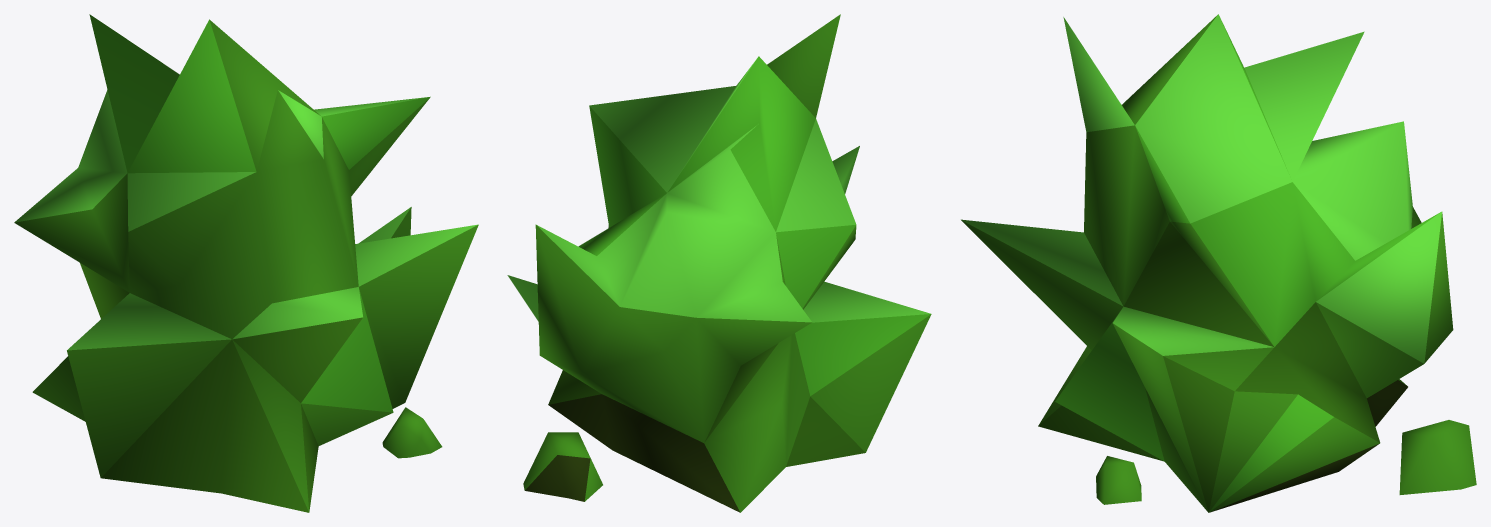
Rendered from natureuniverse_uraniumtier2_uraniumtier2_original.glb.
3 views of the same model, side by side, from view 1: azimuth 30°, elevation 25°; view 2: azimuth 150°, elevation 25°; view 3: azimuth 270°, elevation 25° (orthographic). The views are drawn at different scales.
Parts seen in each view (by area): view 1: UraniumTier2; view 2: UraniumTier2; view 3: UraniumTier2.
Boxes of the visible parts, left/top/right/bottom form: UraniumTier2: left=14, top=14, right=478, bottom=512; UraniumTier2: left=507, top=14, right=931, bottom=512; UraniumTier2: left=961, top=14, right=1476, bottom=512.
Bounding box in the file's own units: 2.53 × 2.5 × 2.86.
1 material, 1 textured.
